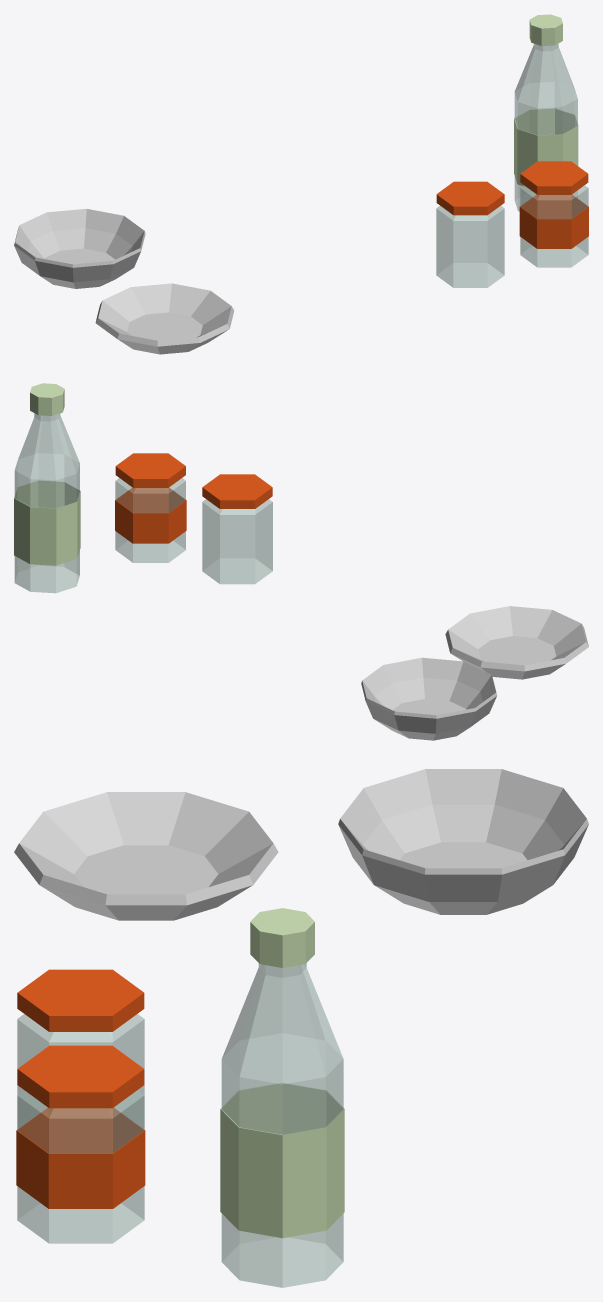
File: estorbos.fbx
3 renders of one model, top to bottom at view 1: azimuth 30°, elevation 25°; view 2: azimuth 150°, elevation 25°; view 3: azimuth 270°, elevation 25°, orthographic. The views are drawn at different scales.
Visible parts, largest first — view 1: Cylinder.020, Circle.003, Circle.002, Cylinder.025, Cylinder.024; view 2: Cylinder.020, Circle.003, Circle.002, Cylinder.024, Cylinder.025; view 3: Cylinder.020, Circle.003, Circle.002, Cylinder.025, Cylinder.024.
Boxes of the visible parts, x1,y1,x2,y2 form: Cylinder.020: (514, 14, 578, 211); Circle.003: (14, 208, 145, 288); Circle.002: (95, 283, 234, 354); Cylinder.025: (519, 161, 588, 267); Cylinder.024: (436, 181, 504, 287); Cylinder.020: (14, 383, 80, 593); Circle.003: (361, 657, 497, 740); Circle.002: (445, 606, 588, 679); Cylinder.024: (202, 474, 272, 584); Cylinder.025: (115, 453, 186, 562); Cylinder.020: (220, 908, 344, 1287); Circle.003: (338, 769, 588, 914); Circle.002: (14, 792, 278, 920); Cylinder.025: (16, 1045, 145, 1243); Cylinder.024: (17, 969, 144, 1128).
Size of the model in its own units: 1390 by 485 by 735.
